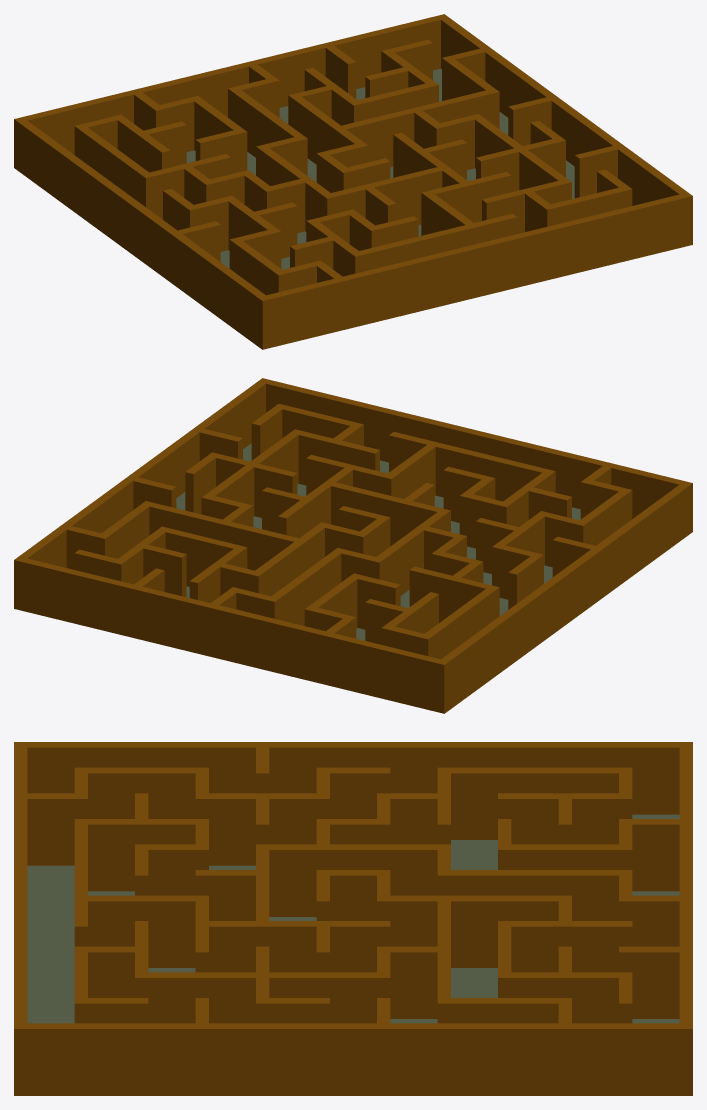
Rendered from Level25Ground.FBX.
3 views of the same model, one above another, from view 1: azimuth 30°, elevation 25°; view 2: azimuth 150°, elevation 25°; view 3: azimuth 270°, elevation 25° (orthographic). The views are drawn at different scales.
Parts seen in each view (by area): view 1: pPlane2; view 2: pPlane2; view 3: pPlane2.
Boxes of the visible parts, <box> form: pPlane2: <box>14,14,692,349</box>; pPlane2: <box>14,378,692,713</box>; pPlane2: <box>14,742,692,1095</box>.
Bounding box in the file's own units: 258 × 28 × 258.
